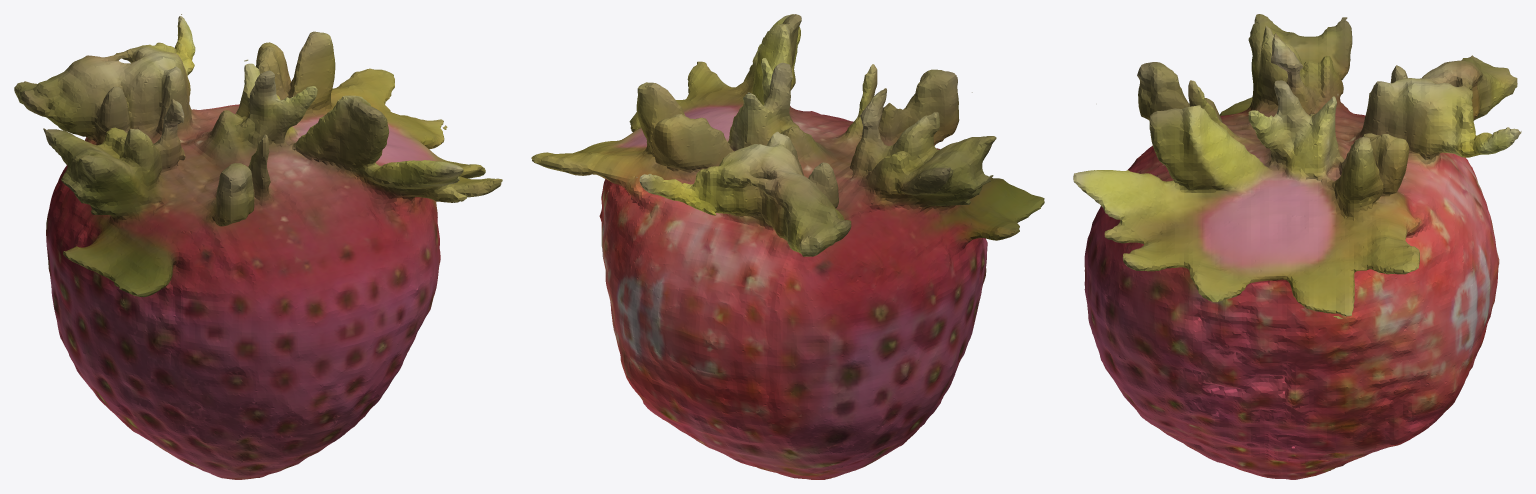
The picture shows the model from 3 angles, left to right: view 1: azimuth 30°, elevation 25°; view 2: azimuth 150°, elevation 25°; view 3: azimuth 270°, elevation 25°; orthographic projection. The views are drawn at different scales.
Parts seen in each view (by area): view 1: world; view 2: world; view 3: world.
Part boxes in pixels (x1=…): world: x1=14, y1=14, x2=502, y2=479; world: x1=531, y1=14, x2=1044, y2=479; world: x1=1073, y1=14, x2=1521, y2=479.
Size of the model in its own units: 1.88 by 1.64 by 1.64.
